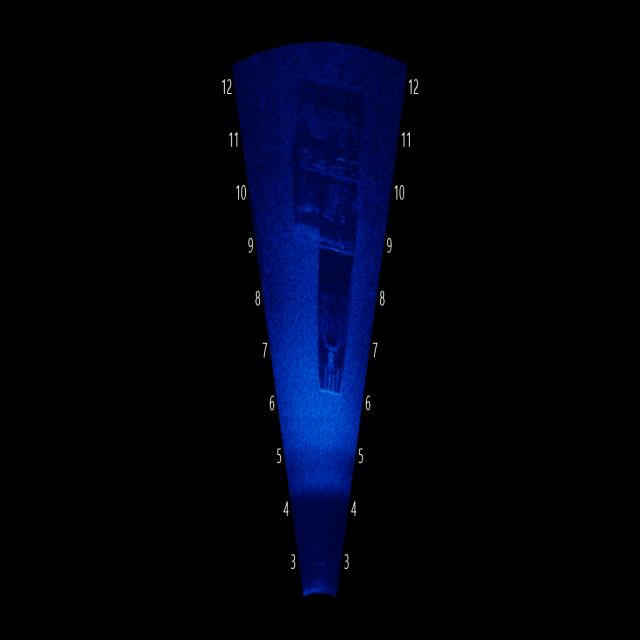square: (293, 71, 370, 258), (295, 267, 361, 427)
